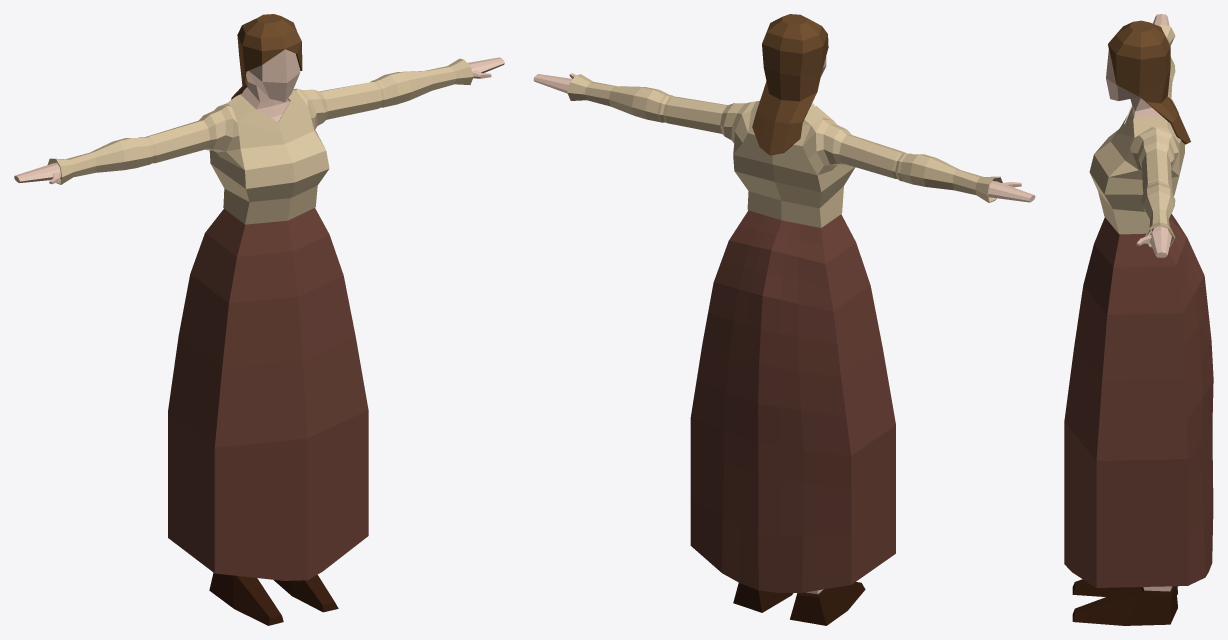
File: postac_kobieta_test3.fbx
3 views of the same model, side by side, from view 1: azimuth 30°, elevation 25°; view 2: azimuth 150°, elevation 25°; view 3: azimuth 270°, elevation 25° (orthographic). The views are drawn at different scales.
Parts seen in each view (by area): view 1: Cylinder.001, Cylinder.003, Cylinder.002; view 2: Cylinder.001, Cylinder.003, Cylinder.002; view 3: Cylinder.001, Cylinder.002, Cylinder.003.
Part boxes in pixels (box(x1,y1,x2,y2)): Cylinder.001: box(168, 208, 368, 580); Cylinder.003: box(47, 58, 473, 224); Cylinder.002: box(14, 14, 504, 625); Cylinder.001: box(690, 210, 895, 593); Cylinder.003: box(567, 74, 1002, 227); Cylinder.002: box(533, 14, 1035, 625); Cylinder.001: box(1064, 214, 1213, 587); Cylinder.002: box(1072, 14, 1190, 625); Cylinder.003: box(1089, 24, 1184, 247).
Size of the model in its own units: 236 by 267 by 62.41.
